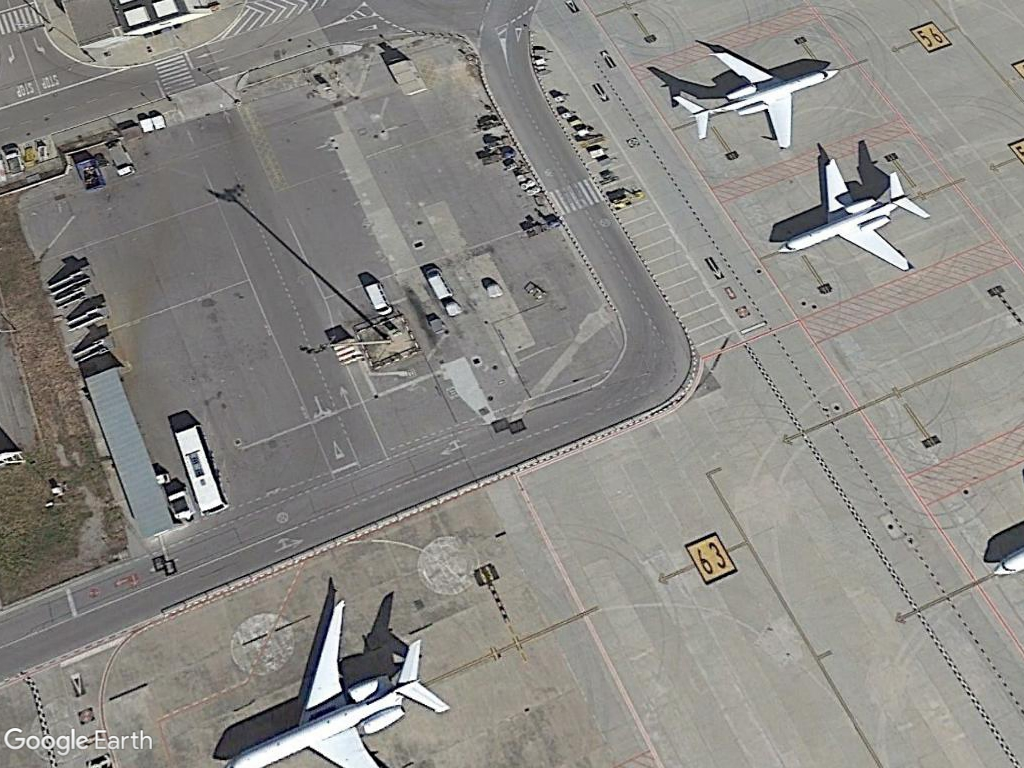bus: (169, 425, 230, 518)
chartered: (765, 157, 933, 273), (665, 48, 844, 152)
stairtruck: (70, 334, 120, 364), (62, 308, 111, 332)
van: (360, 279, 396, 320), (421, 264, 456, 301)
